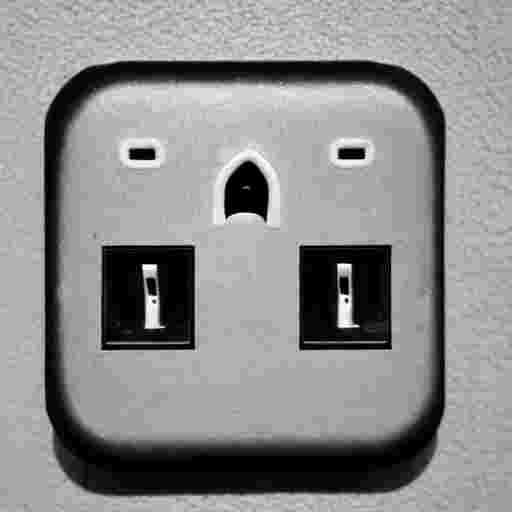power outlet: (46, 62, 443, 492)
